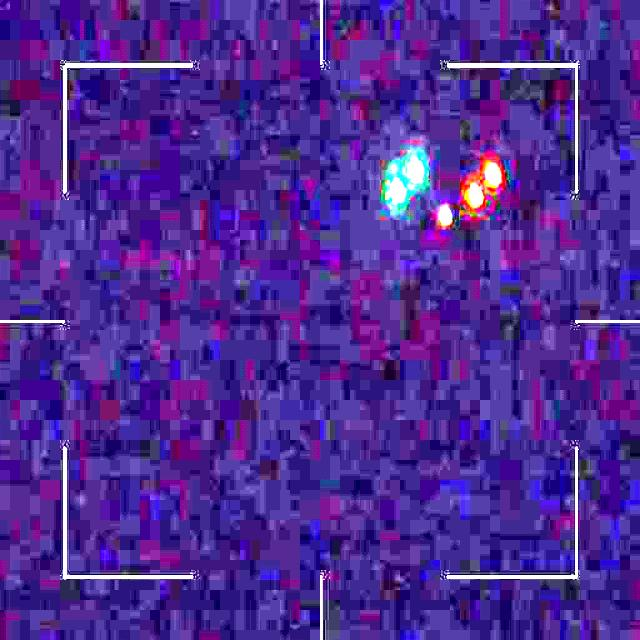bird: (386, 152, 499, 230)
